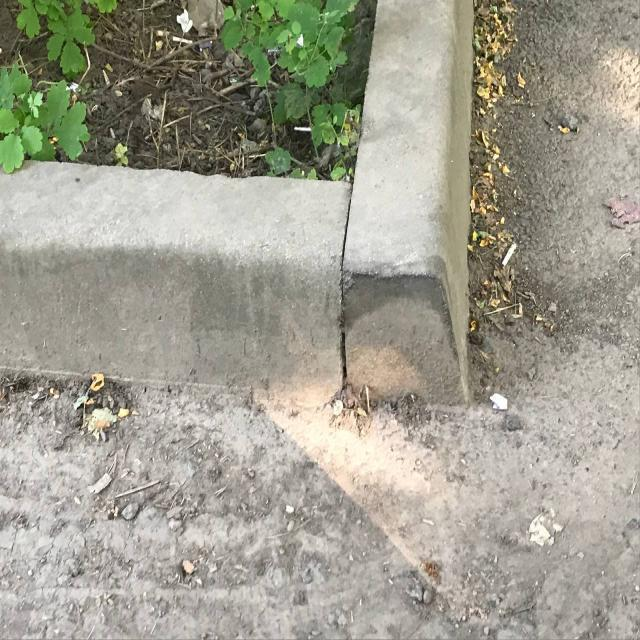bump: (0, 148, 480, 420), (328, 0, 498, 416)
